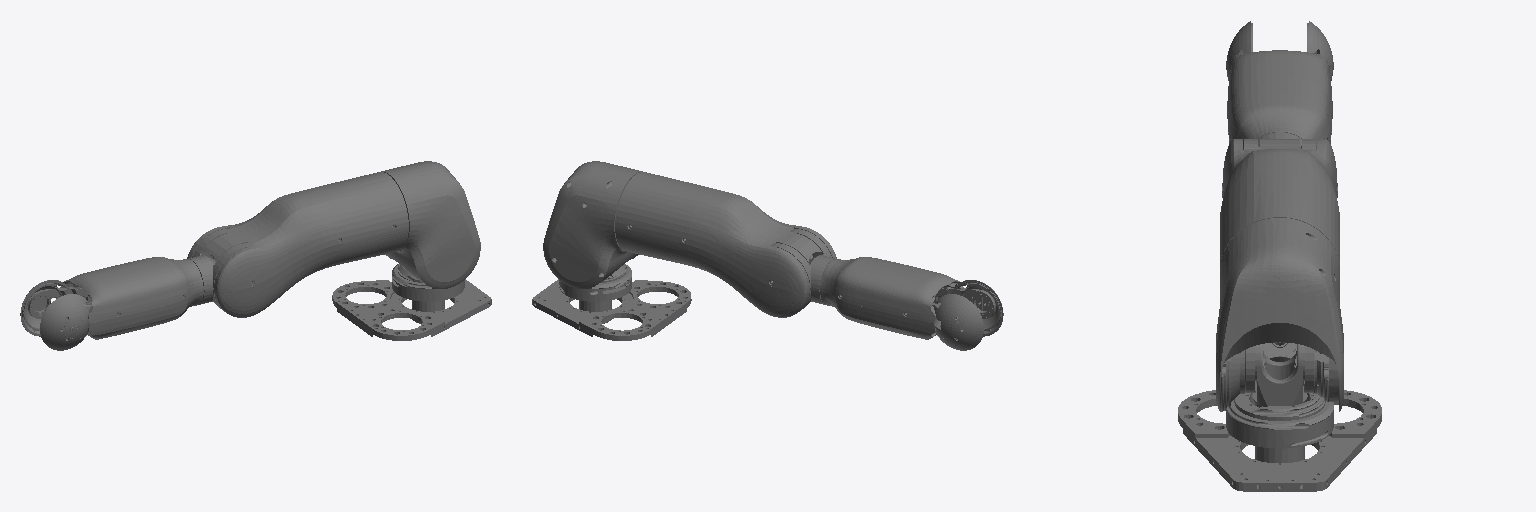
URDF robot description (astribot_arm_left):
<?xml version="1.0" encoding="utf-8"?>
<robot
  name="astribot_arm_left">
  <mujoco>
    <compiler meshdir="./meshes/" balanceinertia="true" discardvisual="false" />
  </mujoco>
  <material name="grey">
    <color rgba="0.5 0.5 0.5 1" />
  </material>
  <link
    name="astribot_arm_left_base_link">
    <inertial>
      <origin
        xyz="-0.054831 0.000561 0.039034"
        rpy="0 0 0" />
      <mass
        value="1.757" />
      <inertia
        ixx="0.006625"
        ixy="-4.1e-05"
        ixz="-0.003698"
        iyy="0.009764"
        iyz="5e-05"
        izz="0.010193" />
    </inertial>
    <visual>
      <origin
        xyz="0 0 0"
        rpy="0 0 0" />
      <geometry>
        <mesh
          filename="meshes/t1_arm/astribot_arm_base_link.STL" />
      </geometry>
      <material name="grey" />
    </visual>
    <collision>
      <origin
        xyz="0 0 0"
        rpy="0 0 0" />
      <geometry>
        <mesh
          filename="meshes/t1_arm/astribot_arm_base_link.STL" />
      </geometry>
    </collision>
  </link>
  <link
    name="astribot_arm_left_link_1">
    <inertial>
      <origin
        xyz="4.8e-05 0.000125 -0.054882"
        rpy="0 0 0" />
      <mass
        value="0.92" />
      <inertia
        ixx="0.003785"
        ixy="-2e-06"
        ixz="-7e-06"
        iyy="0.003732"
        iyz="-9e-06"
        izz="0.000758" />
    </inertial>
    <visual>
      <origin
        xyz="0 0 0"
        rpy="0 0 0" />
      <geometry>
        <mesh
          filename="meshes/t1_arm/astribot_arm_link_1.STL" />
      </geometry>
      <material name="grey" />
    </visual>
    <collision>
      <origin
        xyz="0 0 0"
        rpy="0 0 0" />
      <geometry>
        <mesh
          filename="meshes/t1_arm/astribot_arm_link_1.STL" />
      </geometry>
    </collision>
  </link>
  <joint
    name="astribot_arm_left_joint_1"
    type="revolute">
    <origin
      xyz="0 0 0.13"
      rpy="0 0 0" />
    <parent
      link="astribot_arm_left_base_link" />
    <child
      link="astribot_arm_left_link_1" />
    <axis
      xyz="0 0 1" />
    <limit
      lower="-3.087"
      upper="1.517"
      effort="80"
      velocity="3" />
  </joint>
  <link
    name="astribot_arm_left_link_2">
    <inertial>
      <origin
        xyz="-0.007646 0.033946 0.001577"
        rpy="0 0 0" />
      <mass
        value="1.2" />
      <inertia
        ixx="0.003309"
        ixy="-0.000454"
        ixz="1.9e-05"
        iyy="0.00144"
        iyz="-2.4e-05"
        izz="0.003225" />
    </inertial>
    <visual>
      <origin
        xyz="0 0 0"
        rpy="0 0 0" />
      <geometry>
        <mesh
          filename="meshes/t1_arm/astribot_arm_link_2.STL" />
      </geometry>
      <material name="grey" />
    </visual>
    <collision>
      <origin
        xyz="0 0 0"
        rpy="0 0 0" />
      <geometry>
        <mesh
          filename="meshes/t1_arm/astribot_arm_link_2.STL" />
      </geometry>
    </collision>
  </link>
  <joint
    name="astribot_arm_left_joint_2"
    type="revolute">
    <origin
      xyz="0 0 0"
      rpy="1.5708 0 0" />
    <parent
      link="astribot_arm_left_link_1" />
    <child
      link="astribot_arm_left_link_2" />
    <axis
      xyz="0 0 1" />
    <limit
      lower="-1.517"
      upper="0.55"
      effort="80"
      velocity="3" />
  </joint>
  <link
    name="astribot_arm_left_link_3">
    <inertial>
      <origin
        xyz="0.001132 -0.000322 0.13392"
        rpy="0 0 0" />
      <mass
        value="2.02" />
      <inertia
        ixx="0.04329"
        ixy="4e-06"
        ixz="0.00057"
        iyy="0.043614"
        iyz="-0.000325"
        izz="0.001813" />
    </inertial>
    <visual>
      <origin
        xyz="0 0 0"
        rpy="0 0 0" />
      <geometry>
        <mesh
          filename="meshes/t1_arm/astribot_arm_link_3.STL" />
      </geometry>
      <material name="grey" />
    </visual>
    <collision>
      <origin
        xyz="0 0 0"
        rpy="0 0 0" />
      <geometry>
        <mesh
          filename="meshes/t1_arm/astribot_arm_link_3.STL" />
      </geometry>
    </collision>
  </link>
  <joint
    name="astribot_arm_left_joint_3"
    type="revolute">
    <origin
      xyz="0.0 0.05 0"
      rpy="1.5708 0 -1.5708" />
    <parent
      link="astribot_arm_left_link_2" />
    <child
      link="astribot_arm_left_link_3" />
    <axis
      xyz="0 0 1" />
    <limit
      lower="-3.08"
      upper="1.517"
      effort="40"
      velocity="3" />
  </joint>
  <link
    name="astribot_arm_left_link_4">
    <inertial>
      <origin
        xyz="0.00122199 -0.01743185 0.00060215"
        rpy="0 0 0" />
      <mass
        value="0.25433987" />
      <inertia
        ixx="0.00036111"
        ixy="-3.47e-06"
        ixz="-8.5e-07"
        iyy="0.00020098"
        iyz="1.44e-06"
        izz="0.00032417" />
    </inertial>
    <visual>
      <origin
        xyz="0 0 0"
        rpy="0 0 0" />
      <geometry>
        <mesh
          filename="meshes/t1_arm/astribot_arm_link_4.STL" />
      </geometry>
      <material name="grey" />
    </visual>
    <collision>
      <origin
        xyz="0 0 0"
        rpy="0 0 0" />
      <geometry>
        <mesh
          filename="meshes/t1_arm/astribot_arm_link_4.STL" />
      </geometry>
    </collision>
  </link>
  <joint
    name="astribot_arm_left_joint_4"
    type="revolute">
    <origin
      xyz="0.03 0 0.27"
      rpy="-1.5708 0 0" />
    <parent
      link="astribot_arm_left_link_3" />
    <child
      link="astribot_arm_left_link_4" />
    <axis
      xyz="0 0 1" />
    <limit
      lower="0"
      upper="2.55"
      effort="45"
      velocity="5" />
  </joint>
  <link
    name="astribot_arm_left_link_5">
    <inertial>astribot_t1_urdf/config/kin_config.yaml
     f7013dd [update]: not stable
      <origin
        xyz="0.000668 0.000462 0.15159"
        rpy="0 0 0" />
      <mass
        value="1.012" />
      <inertia
        ixx="0.027534"
        ixy="0.0"
        ixz="0.000104"
        iyy="0.027429"
        iyz="0.00015"
        izz="0.000576" />
    </inertial>
    <visual>
      <origin
        xyz="0 0 0"
        rpy="0 0 0" />
      <geometry>
        <mesh
          filename="meshes/t1_arm/astribot_arm_link_5.STL" />
      </geometry>
      <material name="grey" />
    </visual>
    <collision>
      <origin
        xyz="0 0 0"
        rpy="0 0 0" />
      <geometry>
        <mesh
          filename="meshes/t1_arm/astribot_arm_link_5.STL" />
      </geometry>
    </collision>
  </link>
  <joint
    name="astribot_arm_left_joint_5"
    type="revolute">
    <origin
      xyz="0 0 0"
      rpy="1.5708 0 0" />
    <parent
      link="astribot_arm_left_link_4" />
    <child
      link="astribot_arm_left_link_5" />
    <axis
      xyz="0 0 1" />
    <limit
      lower="-2.37"
      upper="2.37"
      effort="20"
      velocity="10" />
  </joint>
  <link
    name="astribot_arm_left_link_6">
    <inertial>
      <origin
        xyz="-0.000638 0.000484 -0.00174"
        rpy="0 0 0" />
      <mass
        value="0.11" />
      <inertia
        ixx="5.9e-05"
        ixy="0.0"
        ixz="0.0"
        iyy="4.3e-05"
        iyz="0.0"
        izz="5.9e-05" />
    </inertial>
    <visual>
      <origin
        xyz="0 0 0"
        rpy="0 0 0" />
      <geometry>
        <mesh
          filename="meshes/t1_arm/astribot_arm_link_6.STL" />
      </geometry>
      <material name="grey" />
    </visual>
    <collision>
      <origin
        xyz="0 0 0"
        rpy="0 0 0" />
      <geometry>
        <mesh
          filename="meshes/t1_arm/astribot_arm_link_6.STL" />
      </geometry>
    </collision>
  </link>
  <joint
    name="astribot_arm_left_joint_6"
    type="revolute">
    <origin
      xyz="0 0 0.245"
      rpy="-1.5708 0 0" />
    <parent
      link="astribot_arm_left_link_5" />
    <child
      link="astribot_arm_left_link_6" />
    <axis
      xyz="0 0 1" />
    <limit
      lower="-0.78"
      upper="0.78"
      effort="8"
      velocity="5" />
  </joint>
  <link
    name="astribot_arm_left_link_7">
    <inertial>
      <origin
        xyz="1.8e-05 -0.0052 0.001774"
        rpy="0 0 0" />
      <mass
        value="0.156" />
      <inertia
        ixx="0.000161"
        ixy="0.0"
        ixz="0.0"
        iyy="0.000129"
        iyz="0.0"
        izz="6.4e-05" />
    </inertial>
    <visual>
      <origin
        xyz="0 0 0"
        rpy="0 0 0" />
      <geometry>
        <mesh
          filename="meshes/t1_arm/astribot_arm_link_7.STL" />
      </geometry>
      <material name="grey" />
    </visual>
    <collision>
      <origin
        xyz="0 0 0"
        rpy="0 0 0" />
      <geometry>
        <mesh
          filename="meshes/t1_arm/astribot_arm_link_7.STL" />
      </geometry>
    </collision>
  </link>
  <joint
    name="astribot_arm_left_joint_7"
    type="revolute">
    <origin
      xyz="0 0 0"
      rpy="0 1.5708 0" />
    <parent
      link="astribot_arm_left_link_6" />
    <child
      link="astribot_arm_left_link_7" />
    <axis
      xyz="0 0 1" />
    <limit
      lower="-1.55"
      upper="1.55"
      effort="8"
      velocity="5" />
  </joint>
  <link name="astribot_arm_left_tool_link">
    <inertial>
      <origin
          xyz=" -0.00019766 -0.10719761 0.00190898"
          rpy="0 0 0" />
      <mass
          value="0.64762850" />
      <inertia
        ixx="0.00152446"
        ixy="0.00000144"
        ixz="-0.00000058"
        iyy="0.00033076"
        iyz="0.00004144"
        izz="0.00156453" />
    </inertial>
  </link>
  <joint name="astribot_arm_left_tool_joint" type="fixed">
    <origin rpy="0 0 0" xyz="0 0 0"/>
    <parent link="astribot_arm_left_link_7"/>
    <child link="astribot_arm_left_tool_link"/>
  </joint>
</robot>

--- Render facts (derived) ---
Views: 3 orthographic renders of the robot side by side, from view 1: azimuth 30°, elevation 25°; view 2: azimuth 150°, elevation 25°; view 3: azimuth 270°, elevation 25°.
Robot: astribot_arm_left — 9 links, 8 joints (7 revolute, 1 fixed); root link astribot_arm_left_base_link; default pose: every joint at zero.
Visible links, largest first — view 1: astribot_arm_left_link_3, astribot_arm_left_link_5, astribot_arm_left_link_2, astribot_arm_left_base_link, astribot_arm_left_link_1, astribot_arm_left_link_4; view 2: astribot_arm_left_link_3, astribot_arm_left_link_5, astribot_arm_left_link_2, astribot_arm_left_base_link, astribot_arm_left_link_1, astribot_arm_left_link_4; view 3: astribot_arm_left_link_2, astribot_arm_left_link_5, astribot_arm_left_link_3, astribot_arm_left_base_link, astribot_arm_left_link_1, astribot_arm_left_link_4.
Link boxes in pixels (left/top/right/bottom): astribot_arm_left_link_3: left=187, top=172, right=408, bottom=317; astribot_arm_left_link_5: left=20, top=257, right=203, bottom=350; astribot_arm_left_link_2: left=381, top=161, right=480, bottom=288; astribot_arm_left_base_link: left=332, top=279, right=491, bottom=340; astribot_arm_left_link_1: left=392, top=264, right=464, bottom=323; astribot_arm_left_link_4: left=189, top=229, right=253, bottom=308; astribot_arm_left_link_3: left=615, top=172, right=836, bottom=317; astribot_arm_left_link_5: left=820, top=257, right=1003, bottom=350; astribot_arm_left_link_2: left=543, top=161, right=642, bottom=288; astribot_arm_left_base_link: left=532, top=279, right=691, bottom=340; astribot_arm_left_link_1: left=559, top=264, right=631, bottom=323; astribot_arm_left_link_4: left=770, top=229, right=834, bottom=308; astribot_arm_left_link_2: left=1216, top=218, right=1343, bottom=411; astribot_arm_left_link_5: left=1226, top=21, right=1333, bottom=149; astribot_arm_left_link_3: left=1220, top=139, right=1339, bottom=262; astribot_arm_left_base_link: left=1178, top=390, right=1381, bottom=491; astribot_arm_left_link_1: left=1226, top=344, right=1333, bottom=463; astribot_arm_left_link_4: left=1244, top=132, right=1315, bottom=149.
Size in the robot's own frame: 0.6206 by 0.166 by 0.2025 metres.
Meshes: 8 distinct files referenced, 6 mesh visuals loaded (6 binary STL); not drawn: 2 (reference not matched to a file when rendering).
